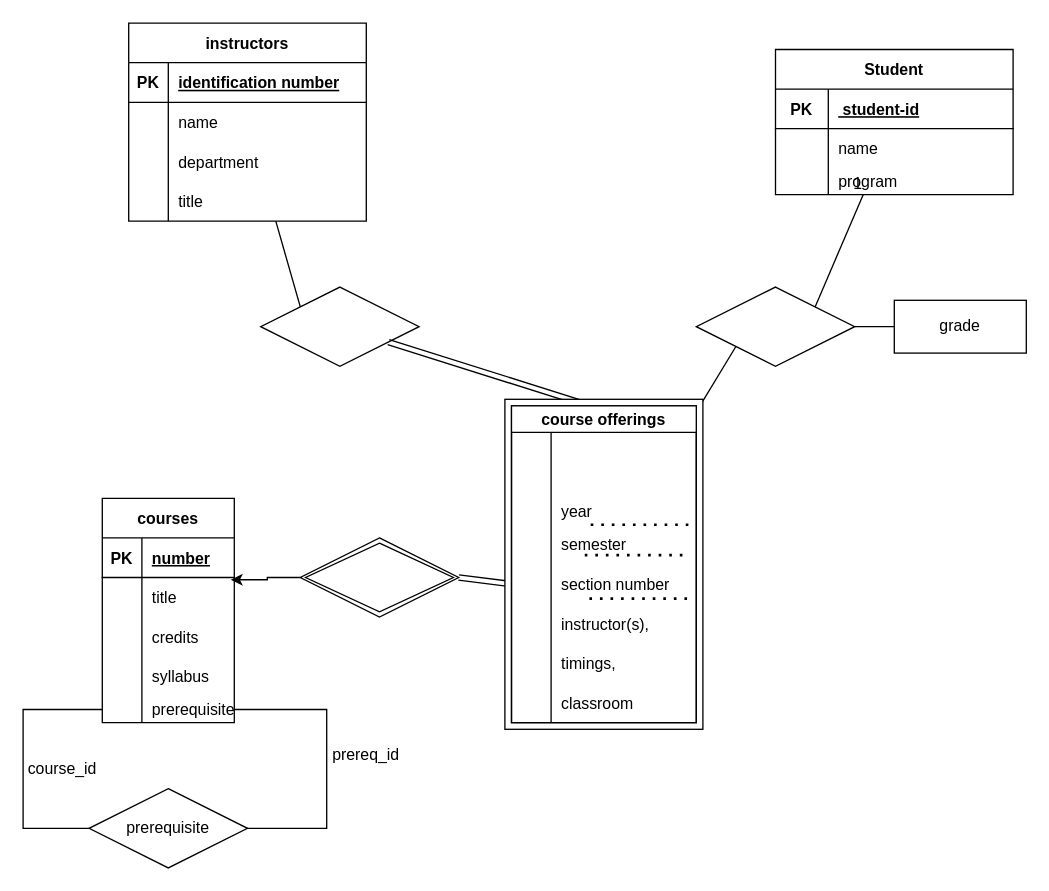
Some shapes in this 1049 by 891 pixel diagram are drawn without their labels. Here are the shapes that lost their labels. From the top down, the centre of each, then its label:
At (x=339, y=326): "teach".
At (x=775, y=326): "enroll".
At (x=379, y=577): "Relationship".
